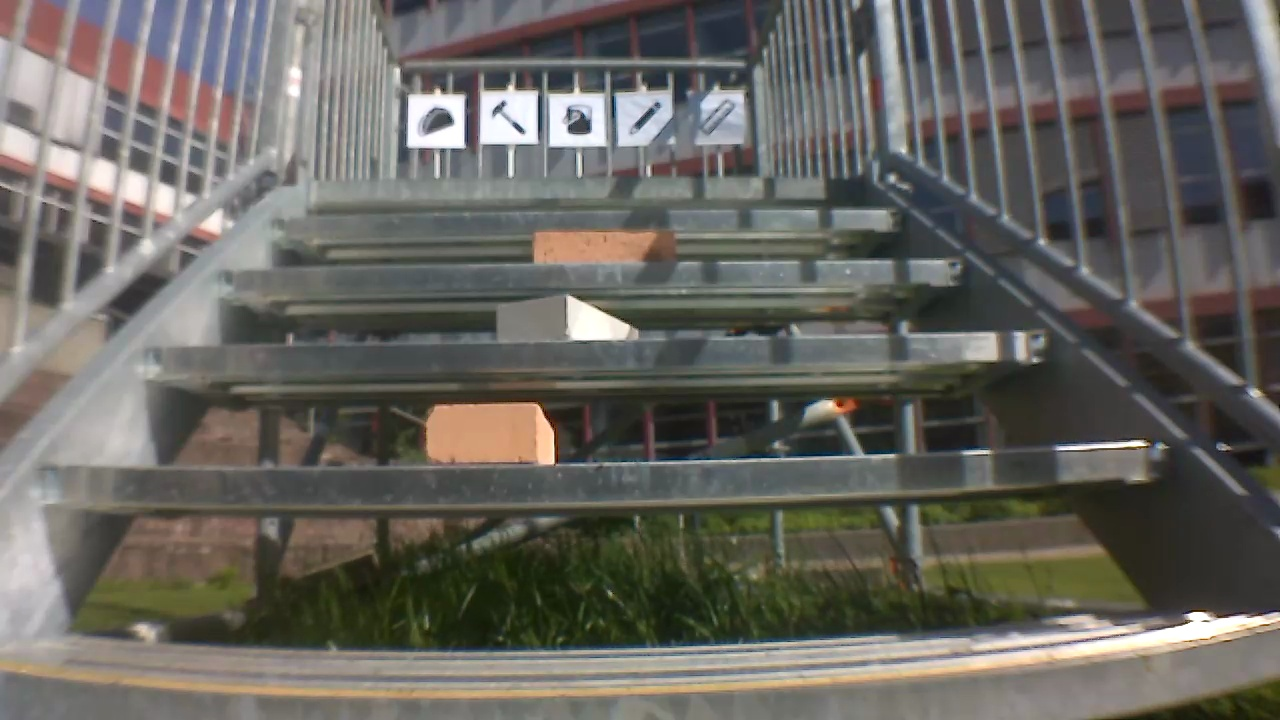brick: (418, 403, 555, 466), (497, 295, 636, 338), (523, 230, 677, 263)
bucket: (562, 103, 598, 138)
edge: (24, 443, 1181, 513), (133, 326, 1050, 384), (206, 258, 966, 303), (250, 206, 906, 243), (285, 176, 866, 203)
hammer: (486, 95, 536, 136)
pencil: (629, 100, 661, 135)
ruler: (692, 99, 736, 135)
steps: (0, 6, 1273, 720)
taco: (415, 100, 457, 136)
